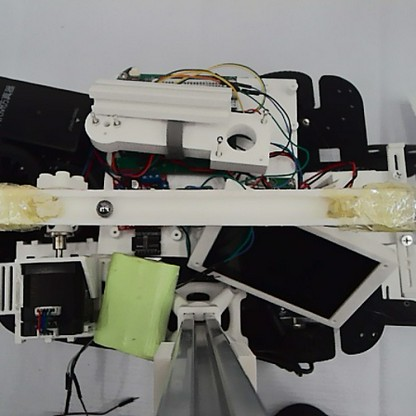ironball: (93, 196, 114, 219)
